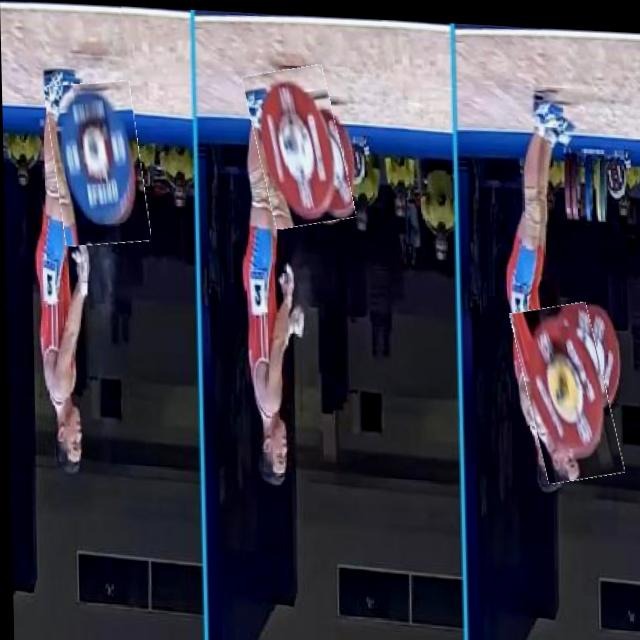barbell: (517, 297, 616, 478), (49, 79, 147, 248), (250, 62, 349, 227)
